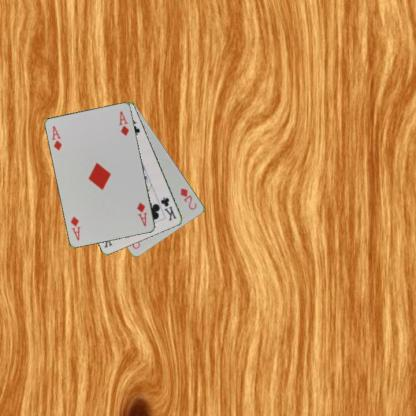2d: (178, 185, 198, 211)
Ad: (134, 200, 148, 228), (50, 124, 63, 152)
Kc: (158, 195, 178, 222)
